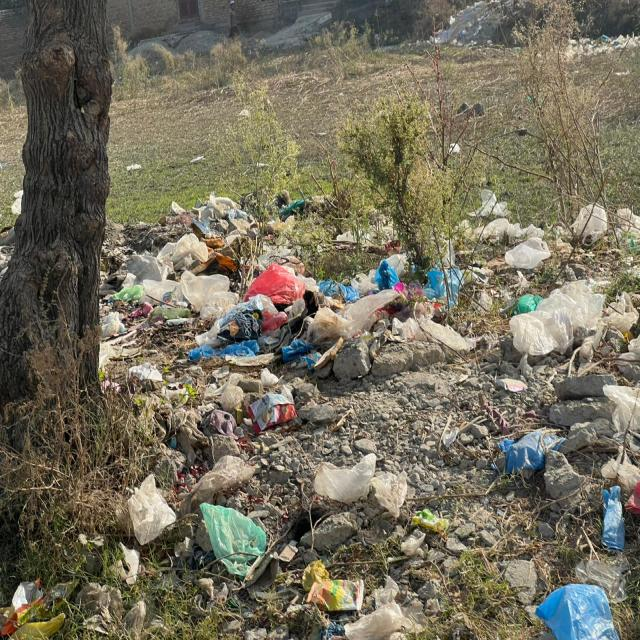garbage: (120, 204, 640, 640)
